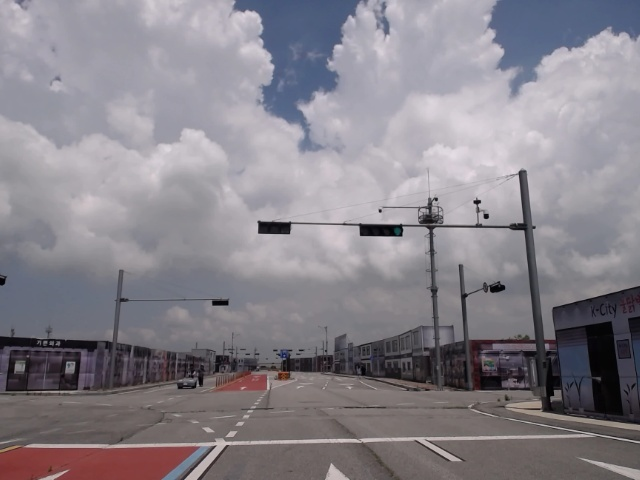straight_green_4: (361, 223, 403, 237)
